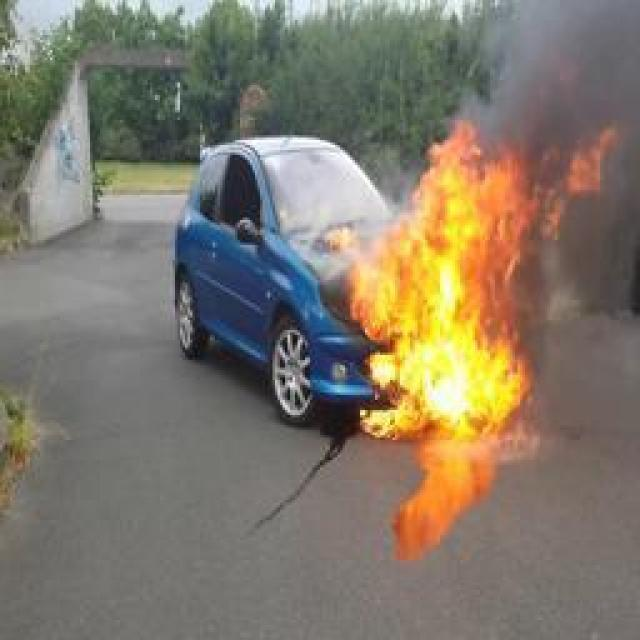Fire: (339, 121, 619, 436)
